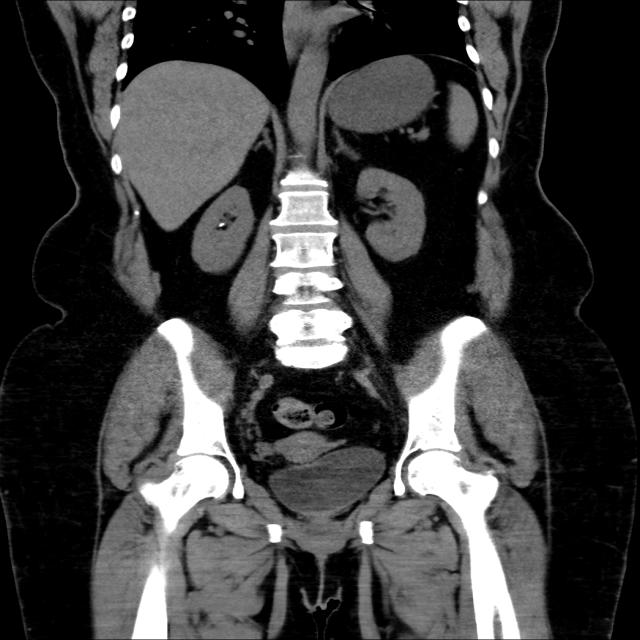kidneystone: (218, 220, 230, 223)
